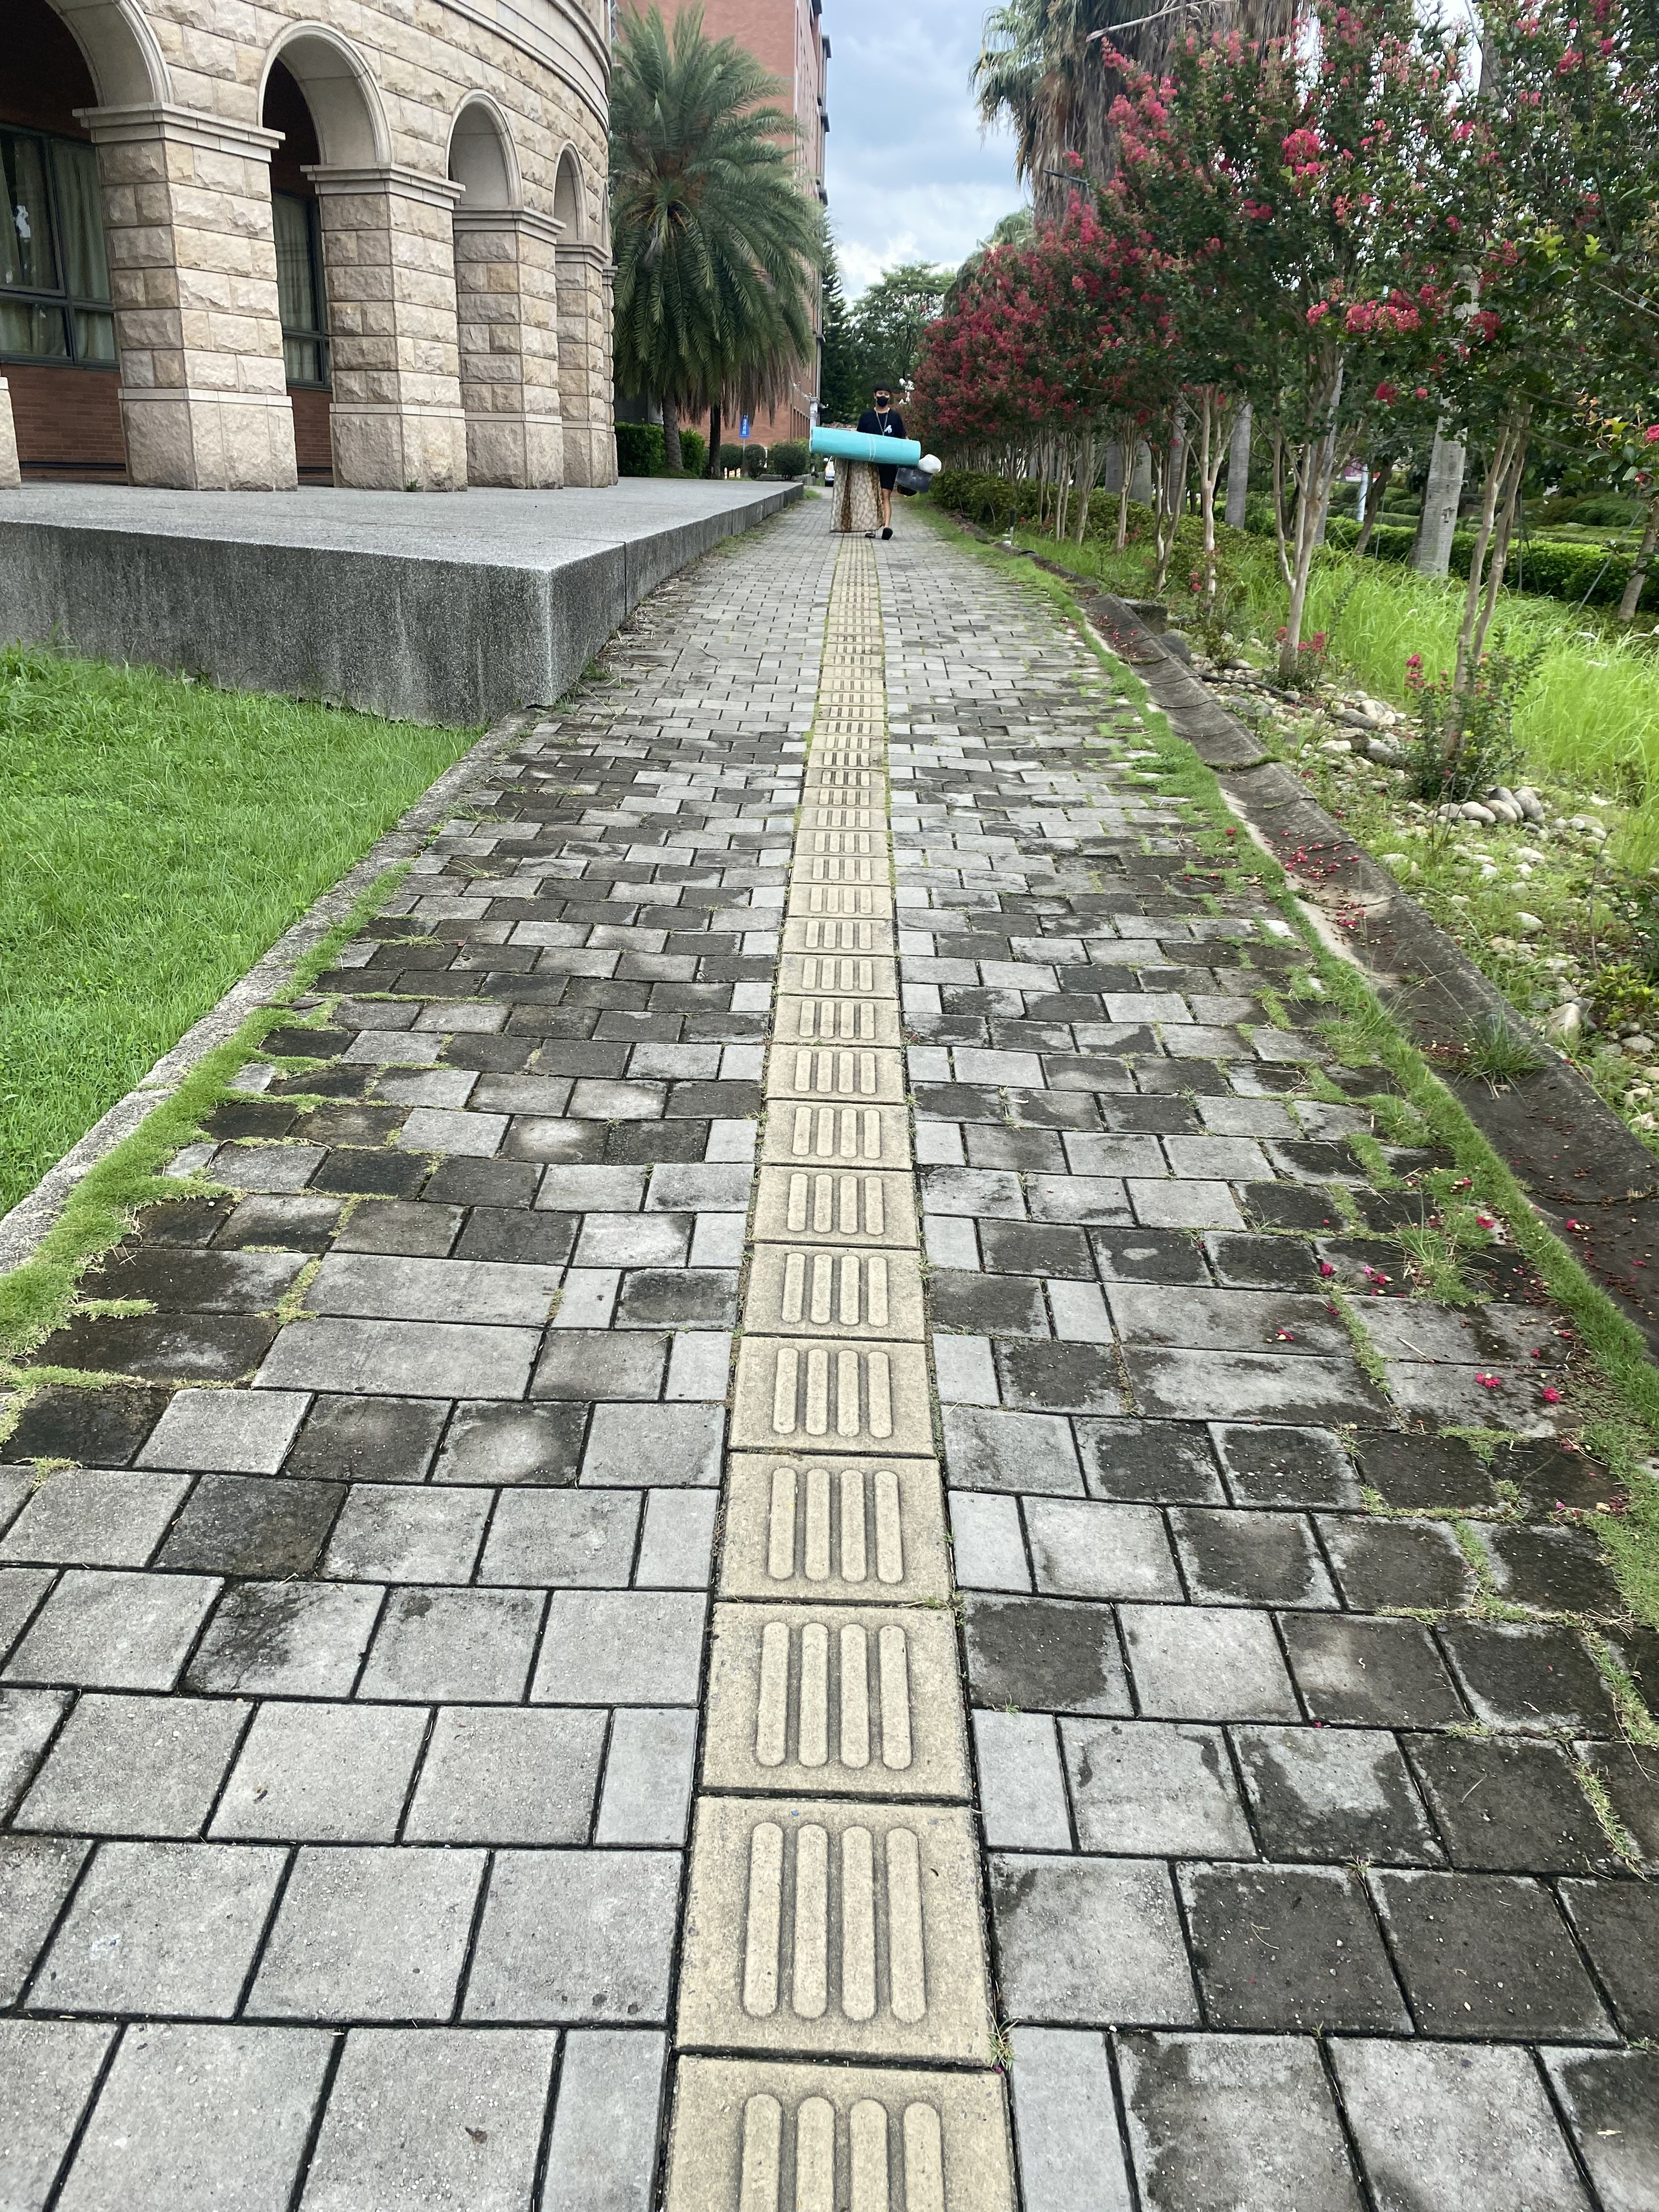sidewalk: (5, 493, 1654, 2212)
